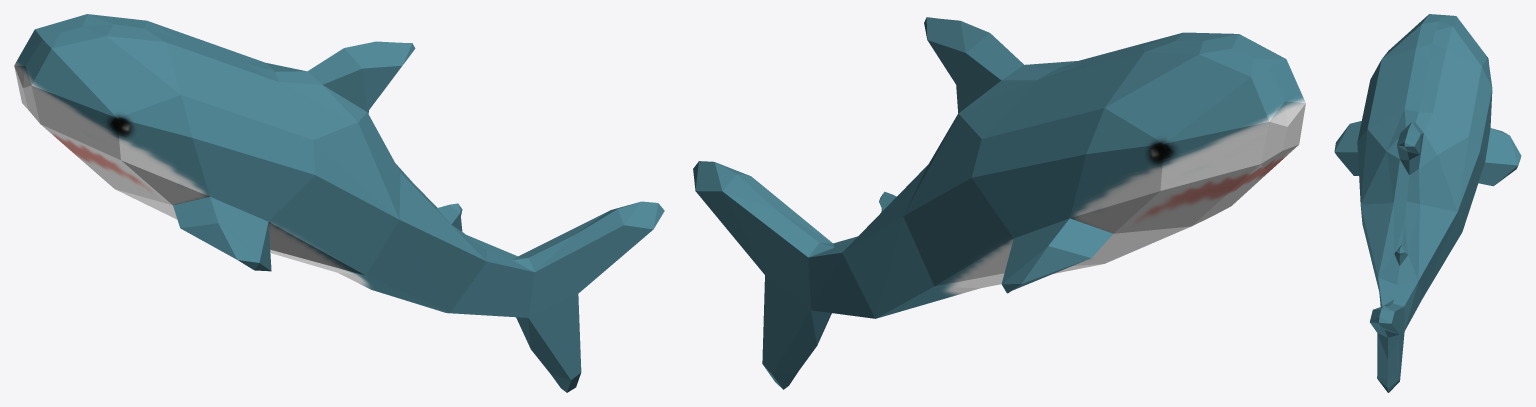
Rendered from blåhaj.obj.
3 renders of one model, left to right at view 1: azimuth 30°, elevation 25°; view 2: azimuth 150°, elevation 25°; view 3: azimuth 270°, elevation 25°, orthographic. The views are drawn at different scales.
Visible parts, largest first — view 1: Blåhaj; view 2: Blåhaj; view 3: Blåhaj.
Boxes of the visible parts, left/top/right/bottom form: Blåhaj: left=14, top=14, right=664, bottom=392; Blåhaj: left=693, top=17, right=1305, bottom=389; Blåhaj: left=1334, top=14, right=1521, bottom=392.
Bounding box in the file's own units: 3.26 × 2.34 × 1.59.
